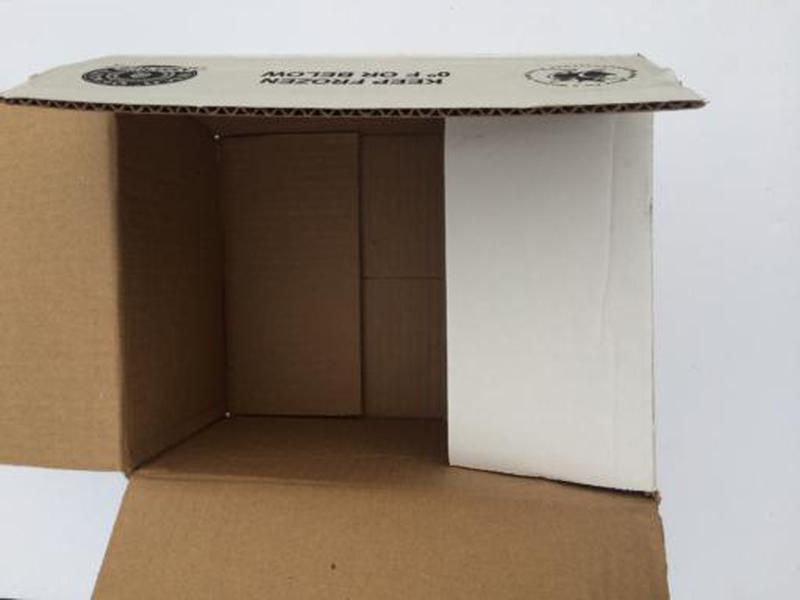cardboard: (1, 48, 708, 600)
